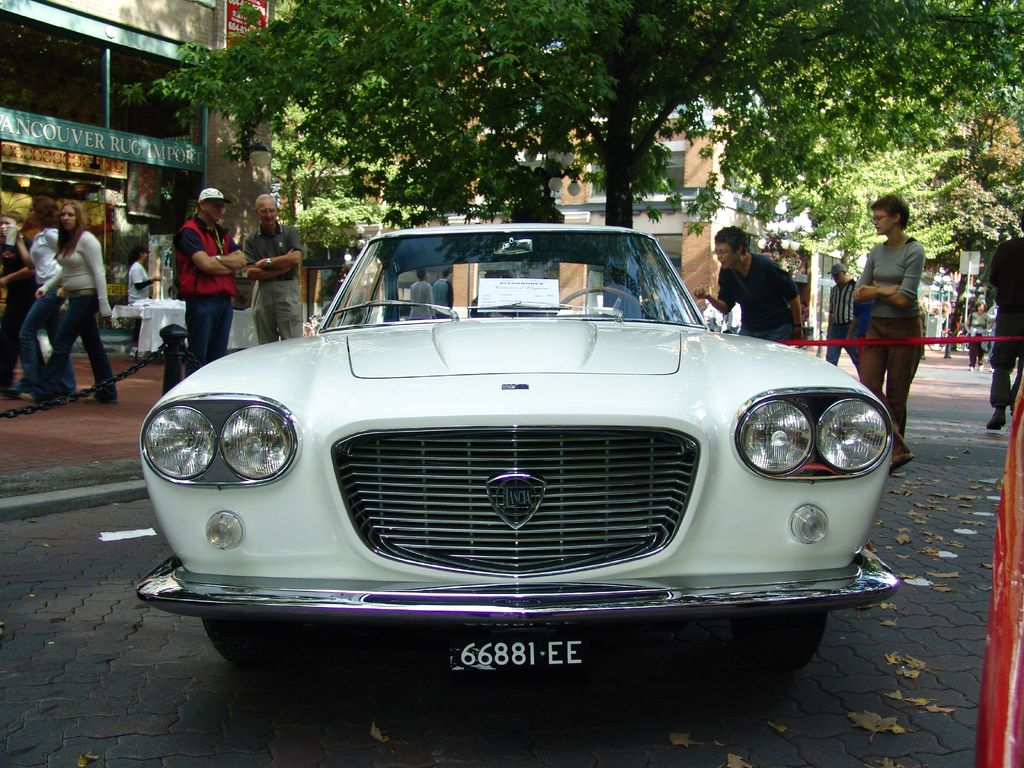Car: (140, 232, 902, 695), (982, 373, 1023, 764)
